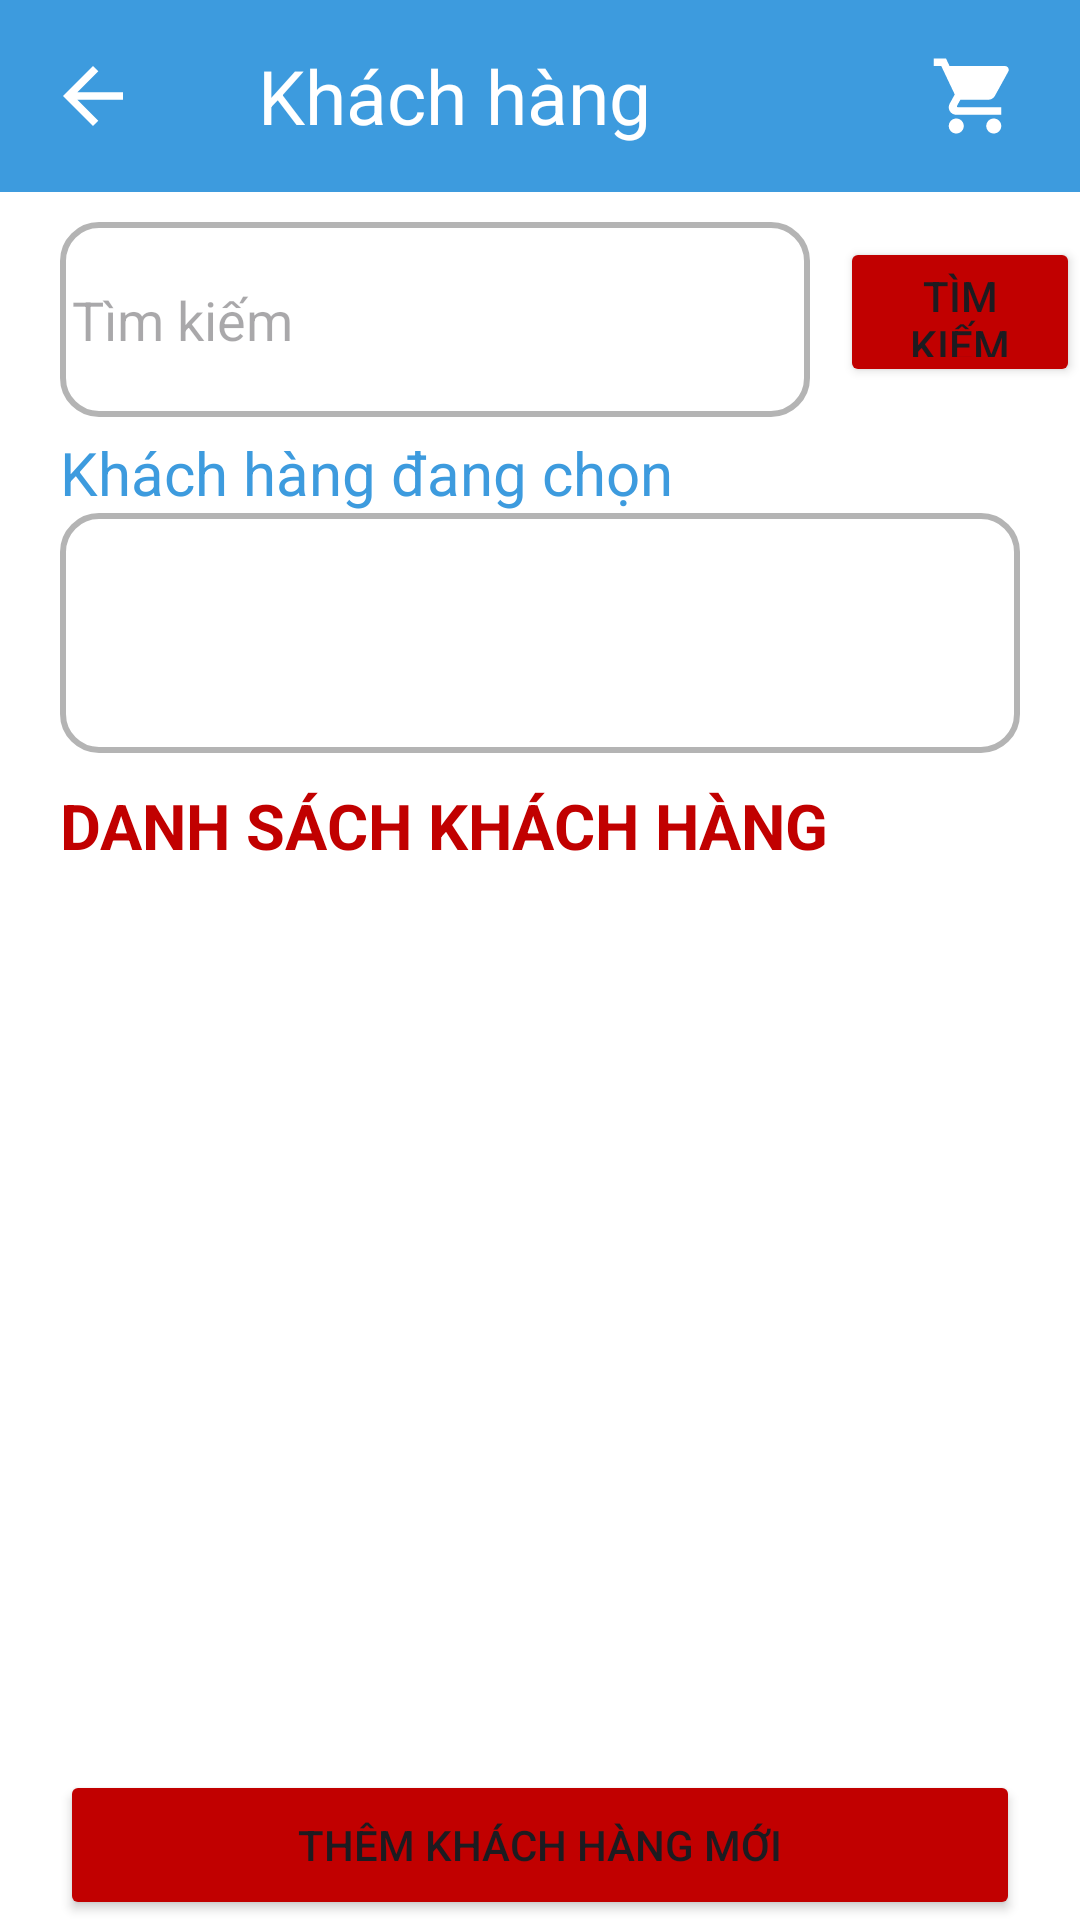

Screen size 1080px×1920px. Icon name, then its center in pixels as [x,y]:
back: [93,96]
shopping cart: [971,96]
